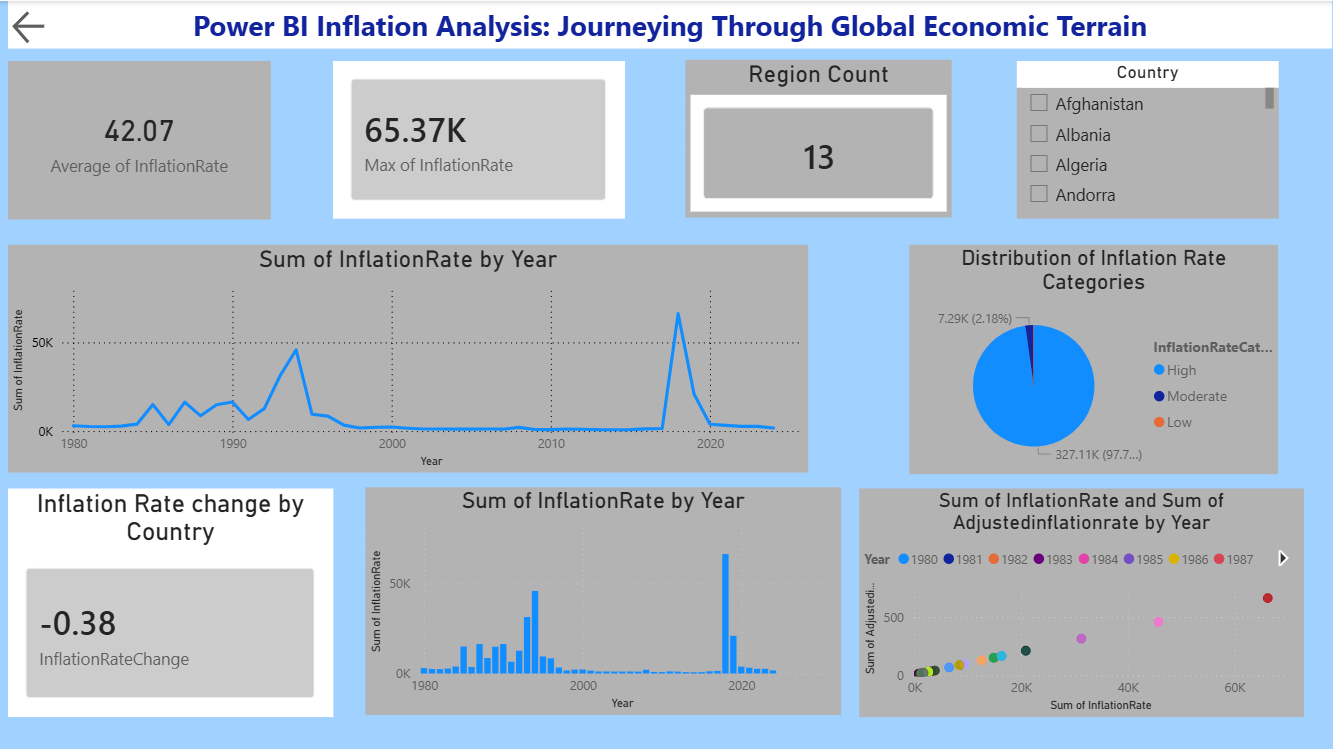

What the dashboard file says about the page in this screenshot:
{"tool":"powerbi","page":{"name":"Page 1","canvas":[1280,720],"ordinal":0},"visuals":[{"type":"card","fields":{"Values":["Avg(global_inflation_data.InflationRate)"]},"box":[10,57,252,152.3],"z":0},{"type":"textbox","box":[9.6,0,1269.5,45.6],"z":1000},{"type":"actionButton","box":[9.6,4.8,100.8,40.8],"z":2000},{"type":"cardVisual","fields":{"Data":["Max(global_inflation_data.InflationRate)"]},"box":[321.7,57.8,279.7,151.4],"z":3000},{"type":"cardVisual","title":"Region Count","fields":{"Data":["Count(Regions.CC)"]},"box":[659.2,56.8,255.5,151.4],"z":4000},{"type":"slicer","title":"Country","fields":{"Values":["global_inflation_data.country_name"]},"box":[976.8,57.8,251.3,151.4],"z":5000},{"type":"lineChart","fields":{"Category":["global_inflation_data.Year"],"Y":["Sum(global_inflation_data.InflationRate)"]},"box":[9.7,233.8,767.5,218.7],"z":6000},{"type":"pieChart","title":"Distribution of Inflation Rate Categories","fields":{"Category":["global_inflation_data.InflationRateCategory"],"Y":["Sum(global_inflation_data.InflationRate)"]},"box":[873.6,233.8,354,219.8],"z":7000},{"type":"cardVisual","title":"Inflation Rate change by Country","fields":{"Data":["global_inflation_data.InflationRateChange"]},"box":[9.7,466.8,311.9,218.9],"z":8000},{"type":"clusteredColumnChart","fields":{"Category":["global_inflation_data.Year"],"Y":["Sum(global_inflation_data.InflationRate)"]},"box":[352,466.7,456,218.7],"z":9000},{"type":"scatterChart","fields":{"X":["global_inflation_data.InflationRate"],"Y":["global_inflation_data.Adjustedinflationrate"],"Series":["global_inflation_data.Year"]},"box":[825.2,466.8,426.2,218.9],"z":10000}]}

Visuals, with their boxes in screenshot pixels (x1, y1, x2, y2), scaled from the page's 1280x720 canvas onto the 1333x749 screenshot:
card - Avg(global_inflation_data.InflationRate): [x1=10, y1=59, x2=273, y2=218]
textbox: [x1=10, y1=0, x2=1332, y2=47]
actionButton: [x1=10, y1=5, x2=115, y2=47]
cardVisual - Max(global_inflation_data.InflationRate): [x1=335, y1=60, x2=626, y2=218]
"Region Count" cardVisual: [x1=686, y1=59, x2=953, y2=217]
"Country" slicer: [x1=1017, y1=60, x2=1279, y2=218]
lineChart - global_inflation_data.Year x Sum(global_inflation_data.InflationRate): [x1=10, y1=243, x2=809, y2=471]
"Distribution of Inflation Rate Categories" pieChart: [x1=910, y1=243, x2=1278, y2=472]
"Inflation Rate change by Country" cardVisual: [x1=10, y1=486, x2=335, y2=713]
clusteredColumnChart - global_inflation_data.Year x Sum(global_inflation_data.InflationRate): [x1=367, y1=485, x2=841, y2=713]
scatterChart - global_inflation_data.InflationRate x global_inflation_data.Adjustedinflationrate: [x1=859, y1=486, x2=1303, y2=713]
